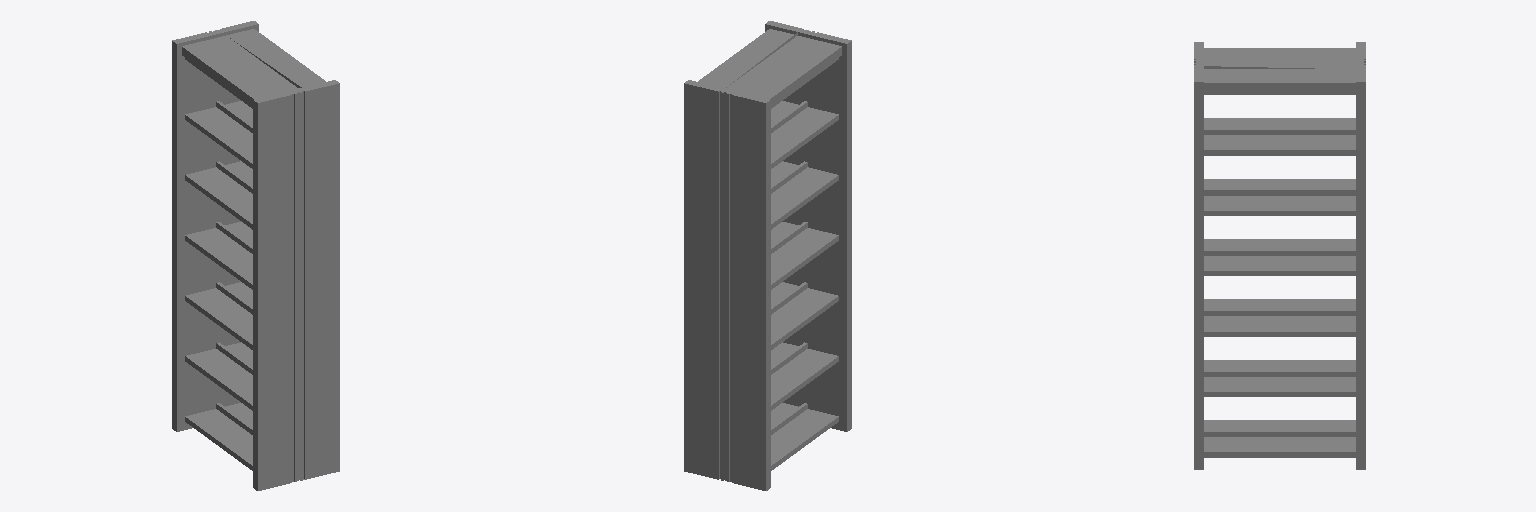
The model's file is BookShelf1.obj.
The picture shows the model from 3 angles: view 1: azimuth 30°, elevation 25°; view 2: azimuth 150°, elevation 25°; view 3: azimuth 270°, elevation 25°; orthographic projection.
Visible parts, largest first — view 1: 3dSolid; view 2: 3dSolid; view 3: 3dSolid.
Part boxes in pixels (x1,y1,x2,y2): 3dSolid: (172, 21, 339, 490); 3dSolid: (684, 21, 851, 490); 3dSolid: (1194, 42, 1365, 469).
Size of the model in its own units: 50 by 225 by 90.